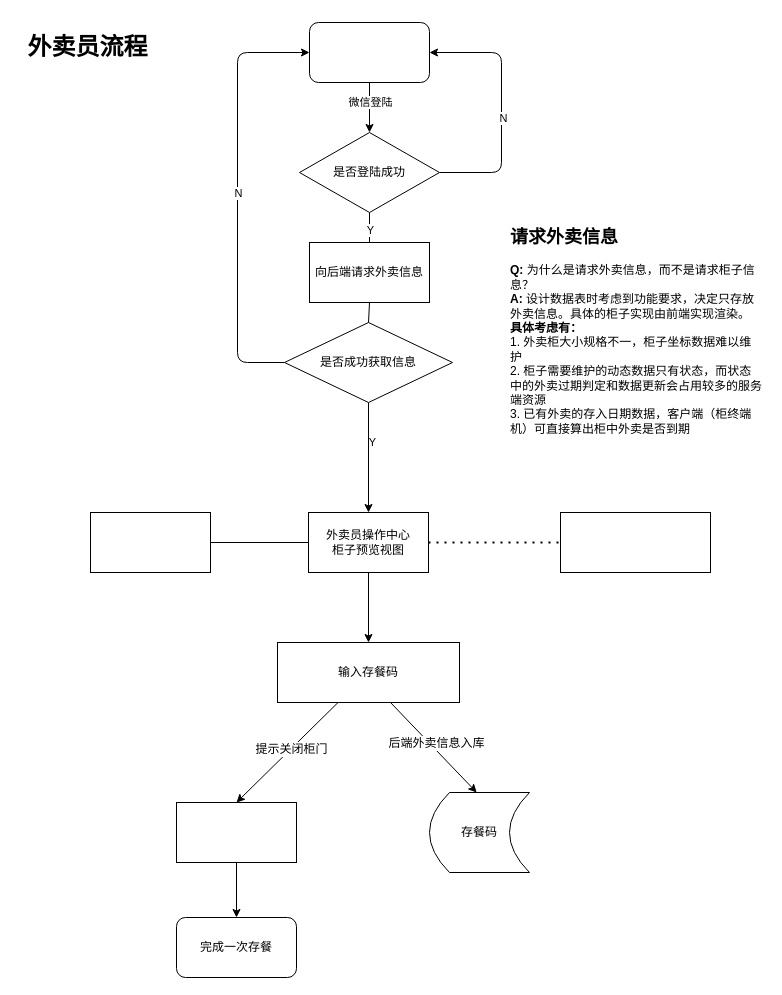
Image size: 782x995. Some labels were removed from this diagram. The shapes that lost their labels are listed below. From the top down, each one's centre as x and y in pixels, then its label:
At pixel 369 52: "选择外卖员登陆".
At pixel 150 542: "主动登出".
At pixel 635 542: "自动登出 默认15秒内无操作后执行".
At pixel 236 832: "系统自动发送短信".
